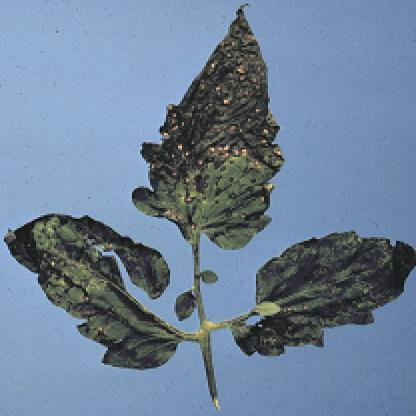Tomato Septoria leaf spot: (120, 9, 288, 255), (10, 212, 192, 380), (220, 223, 414, 367)
